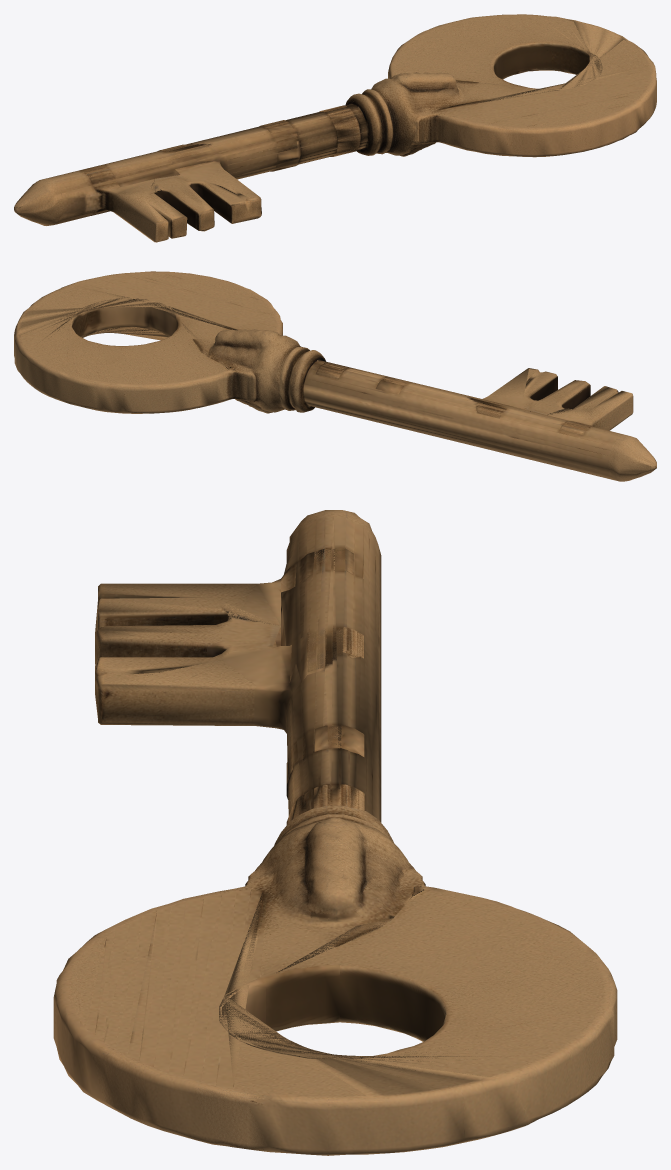
Rendered from Key.fbx.
3 renders of one model, top to bottom at view 1: azimuth 30°, elevation 25°; view 2: azimuth 150°, elevation 25°; view 3: azimuth 270°, elevation 25°, orthographic. The views are drawn at different scales.
Visible parts, largest first — view 1: mesh_node; view 2: mesh_node; view 3: mesh_node.
Part boxes in pixels (x1,y1,x2,y2): mesh_node: (14,14,656,242); mesh_node: (14,271,656,481); mesh_node: (53,510,617,1155).
Size of the model in its own units: 191 by 23.09 by 74.76.
1 material, 1 textured.
